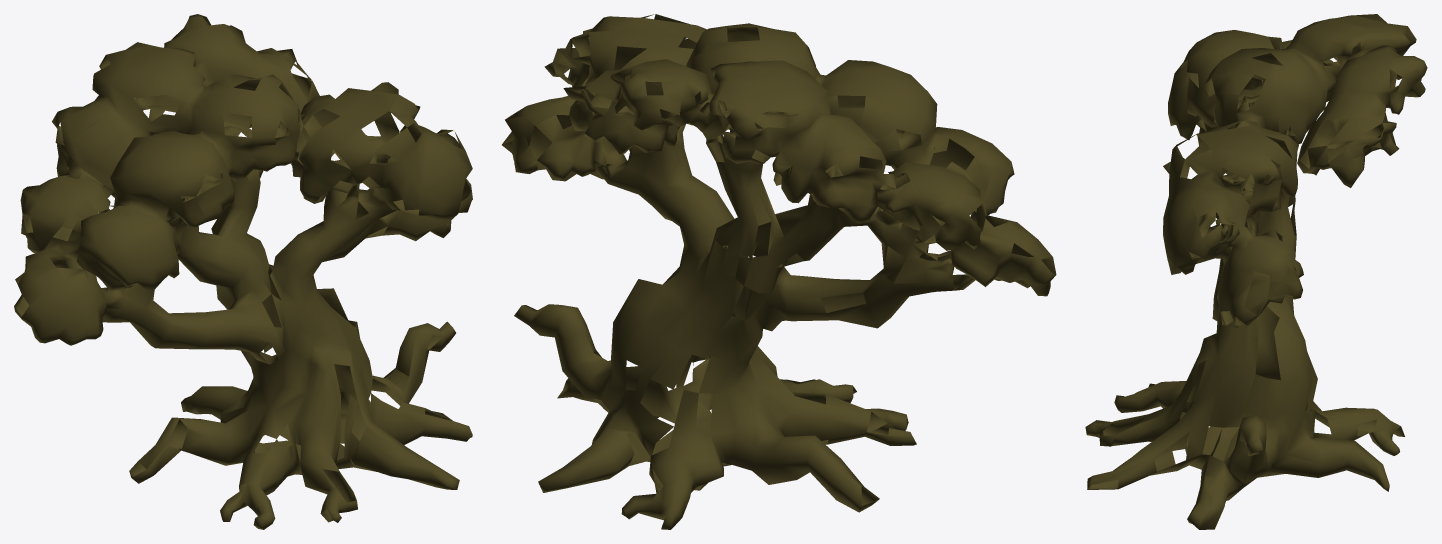
File: arbol_tarapaca.glb
3 renders of one model, left to right at view 1: azimuth 30°, elevation 25°; view 2: azimuth 150°, elevation 25°; view 3: azimuth 270°, elevation 25°, orthographic. The views are drawn at different scales.
Visible parts, largest first — view 1: arbol_tarapaca; view 2: arbol_tarapaca; view 3: arbol_tarapaca.
Part boxes in pixels (x1,y1,x2,y2): arbol_tarapaca: [14, 14, 472, 529]; arbol_tarapaca: [502, 14, 1056, 529]; arbol_tarapaca: [1085, 14, 1427, 529].
Size of what is drawn, in the model's own units: 4.96 by 4 by 3.16.
1 material, 1 textured.
